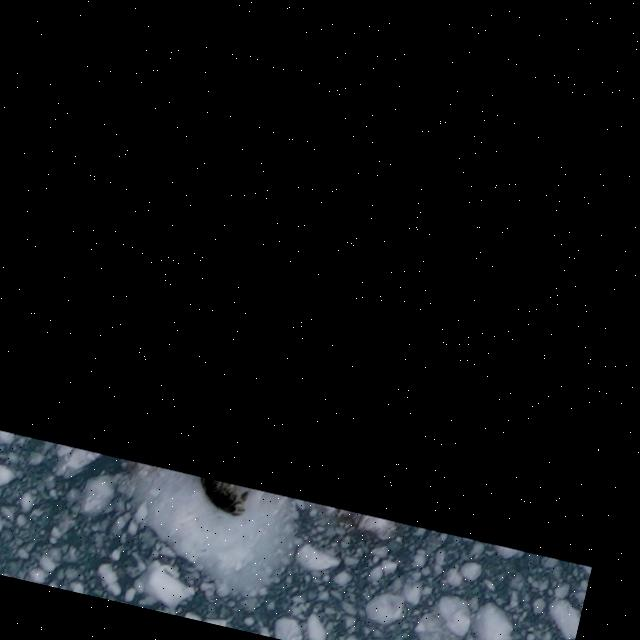seal: (185, 477, 256, 525)
